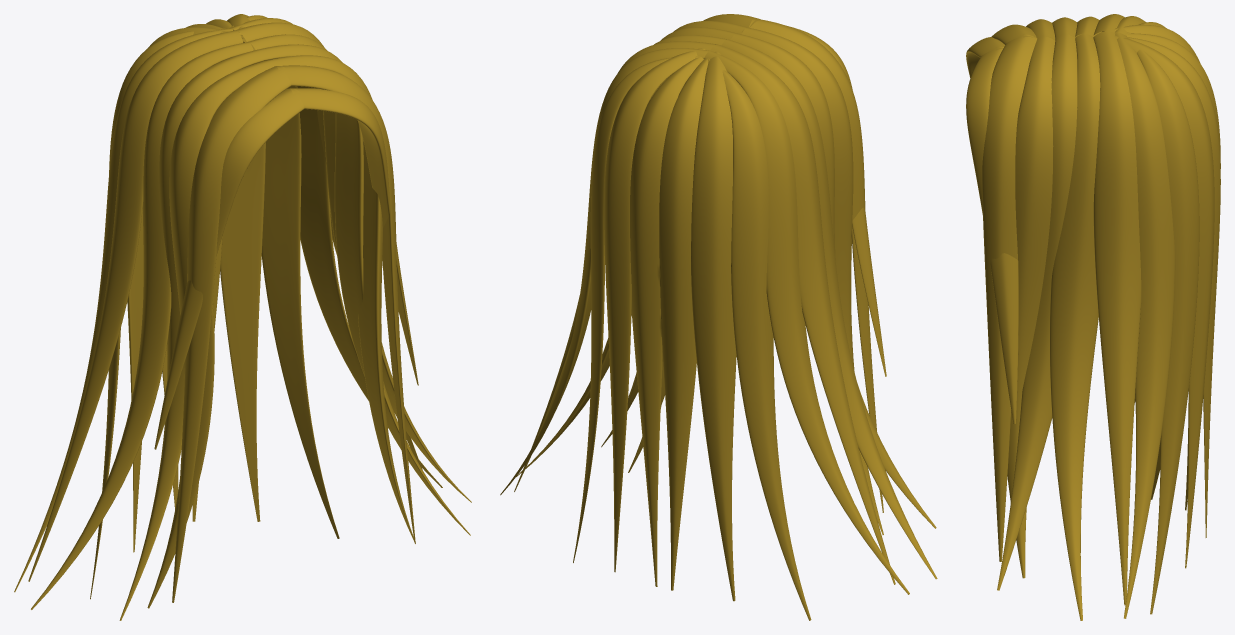
Rendered from Char-model_Female-H_S2_LONG.fbx.
3 views of the same model, side by side, from view 1: azimuth 30°, elevation 25°; view 2: azimuth 150°, elevation 25°; view 3: azimuth 270°, elevation 25° (orthographic). The views are drawn at different scales.
Parts seen in each view (by area): view 1: H1.007; view 2: H1.007; view 3: H1.007.
Part boxes in pixels (x1,y1,x2,y2): H1.007: (14, 14, 471, 620); H1.007: (500, 14, 937, 620); H1.007: (966, 14, 1220, 620).
Bounding box in the file's own units: 369 × 445 × 195.
